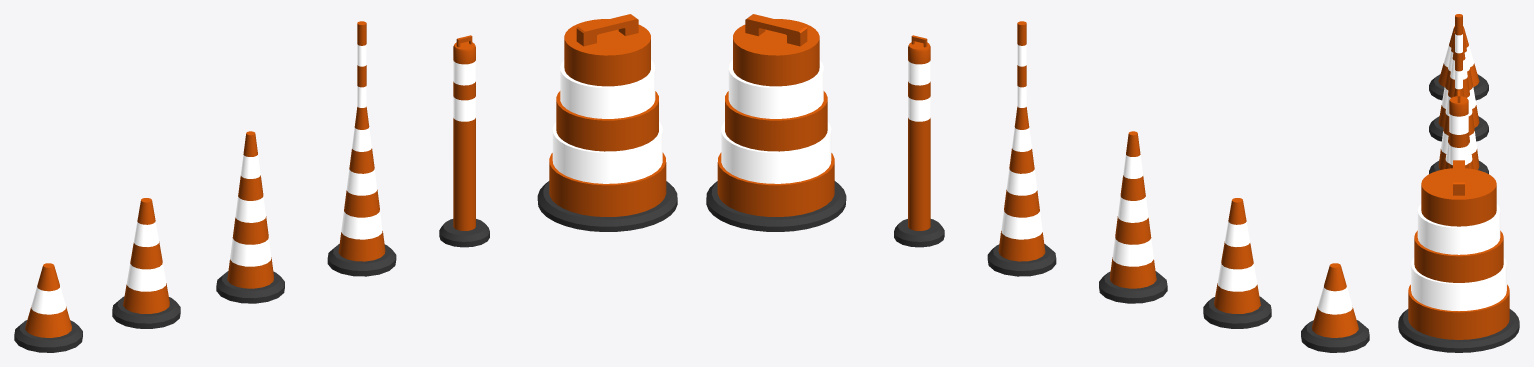
File: prop_cone_03.glb
The picture shows the model from 3 angles, left to right: view 1: azimuth 30°, elevation 25°; view 2: azimuth 150°, elevation 25°; view 3: azimuth 270°, elevation 25°; orthographic projection. The views are drawn at different scales.
Visible parts, largest first — view 1: Object_3, Object_4, Object_2; view 2: Object_3, Object_4, Object_2; view 3: Object_3, Object_4, Object_2.
Boxes of the visible parts, left/top/right/bottom form: Object_3: left=25, top=14, right=666, bottom=337; Object_4: left=31, top=44, right=662, bottom=314; Object_2: left=14, top=181, right=677, bottom=352; Object_3: left=717, top=14, right=1358, bottom=337; Object_4: left=721, top=44, right=1352, bottom=314; Object_2: left=706, top=181, right=1369, bottom=352; Object_3: left=1408, top=14, right=1509, bottom=339; Object_4: left=1411, top=34, right=1506, bottom=310; Object_2: left=1398, top=74, right=1519, bottom=352.
Size of the model in its own units: 4.16 by 1.46 by 0.777.
